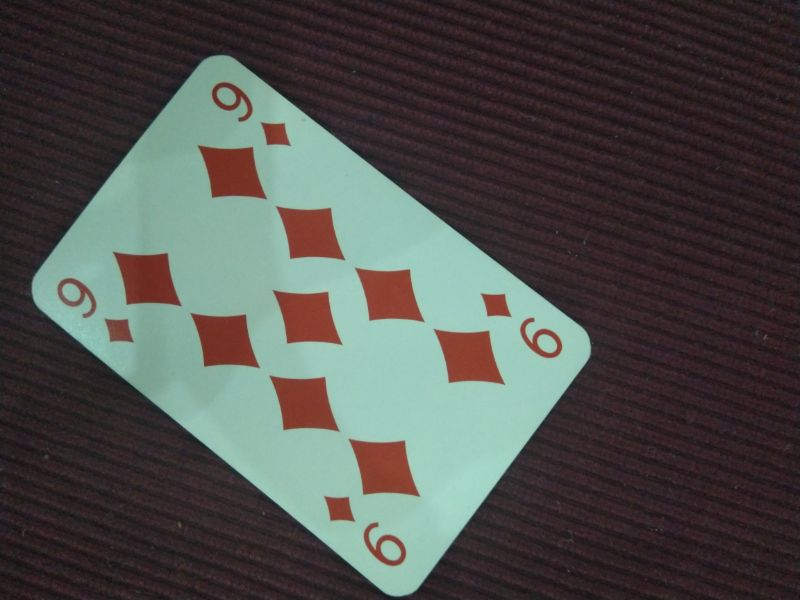9d: (318, 492, 409, 569), (478, 287, 565, 361), (54, 272, 138, 347), (207, 77, 295, 148)
